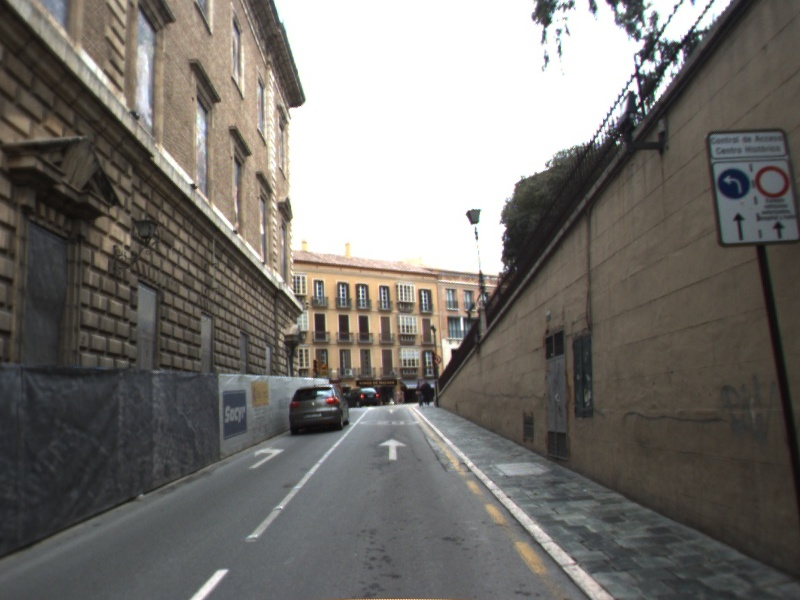LEFT: (247, 444, 287, 471)
STRAIGHT: (376, 436, 409, 463)
